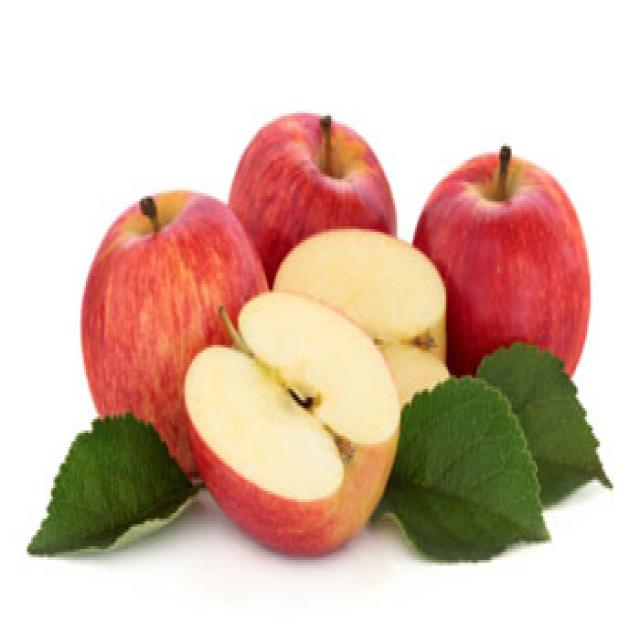apple: (188, 282, 418, 564), (81, 186, 270, 493), (417, 143, 592, 417), (273, 226, 456, 448), (223, 111, 399, 307)
